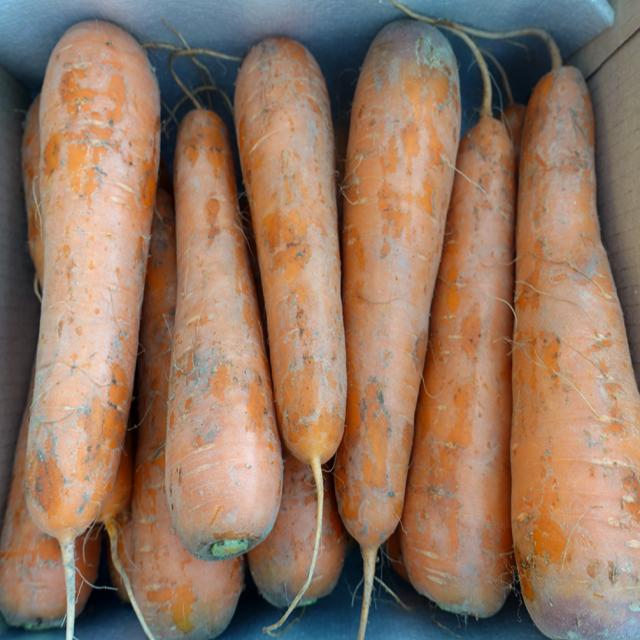carrot: (25, 16, 162, 572), (516, 34, 640, 640), (336, 20, 462, 596), (401, 53, 524, 617), (162, 99, 286, 577), (232, 36, 350, 486)
